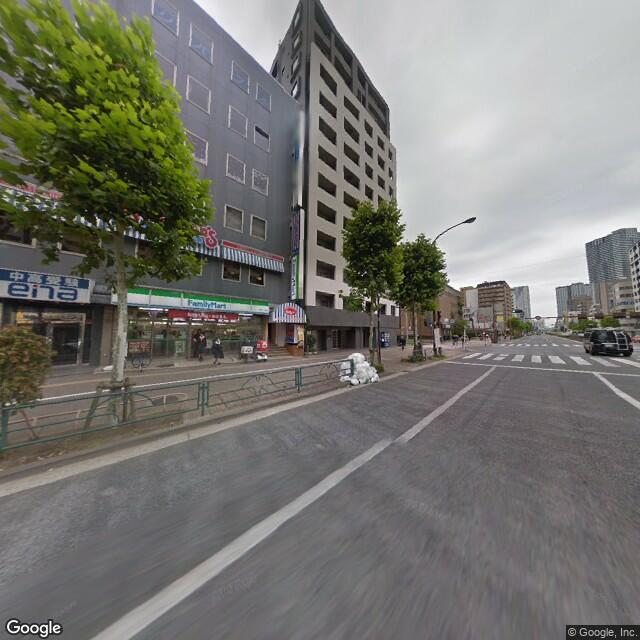family_mart: (126, 284, 273, 317)
